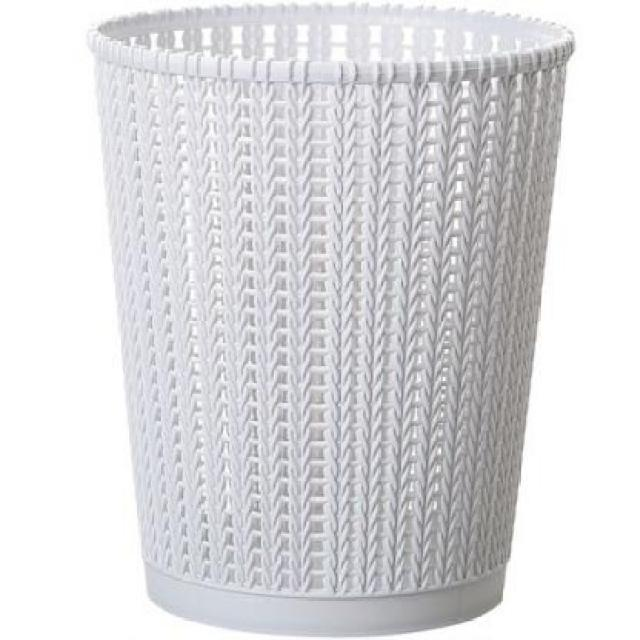dustbin: (83, 0, 582, 640)
